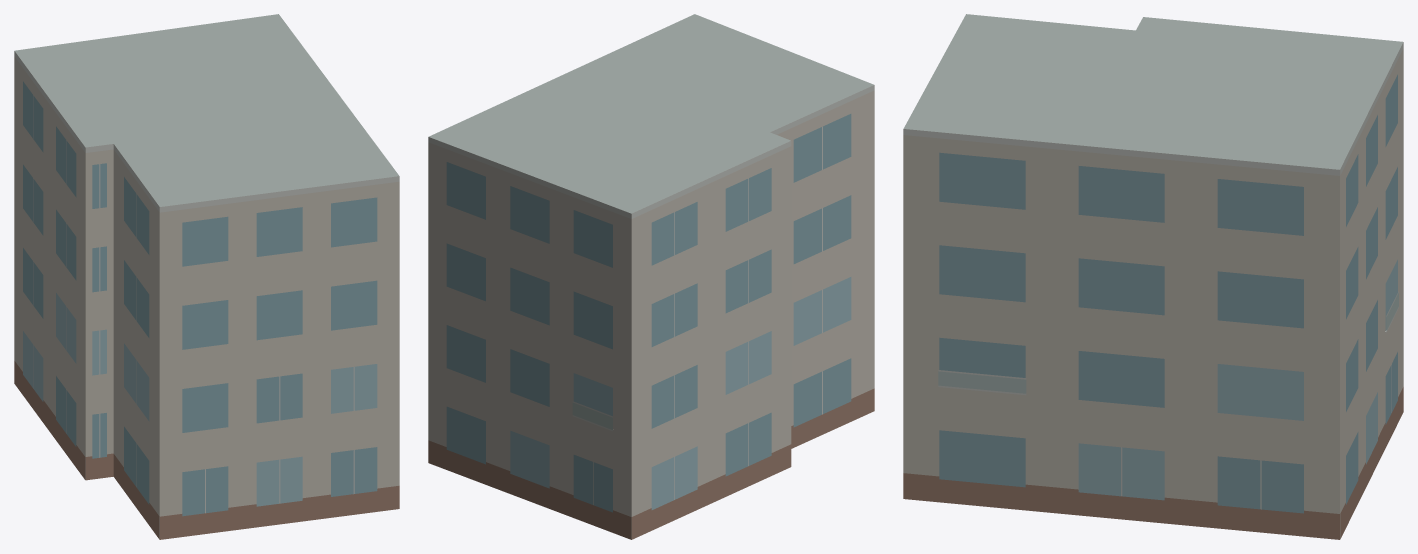
File: survey-upis-32851603.glb
3 views of the same model, side by side, from view 1: azimuth 30°, elevation 25°; view 2: azimuth 150°, elevation 25°; view 3: azimuth 270°, elevation 25° (orthographic). The views are drawn at different scales.
Parts seen in each view (by area): view 1: survey-upis-32851603.tmp; view 2: survey-upis-32851603.tmp; view 3: survey-upis-32851603.tmp.
Boxes of the visible parts, bbox=[...] form: survey-upis-32851603.tmp: bbox=[14, 14, 399, 539]; survey-upis-32851603.tmp: bbox=[428, 14, 874, 539]; survey-upis-32851603.tmp: bbox=[903, 14, 1403, 539].
Bounding box in the file's own units: 13.28 × 14.7 × 18.02.
